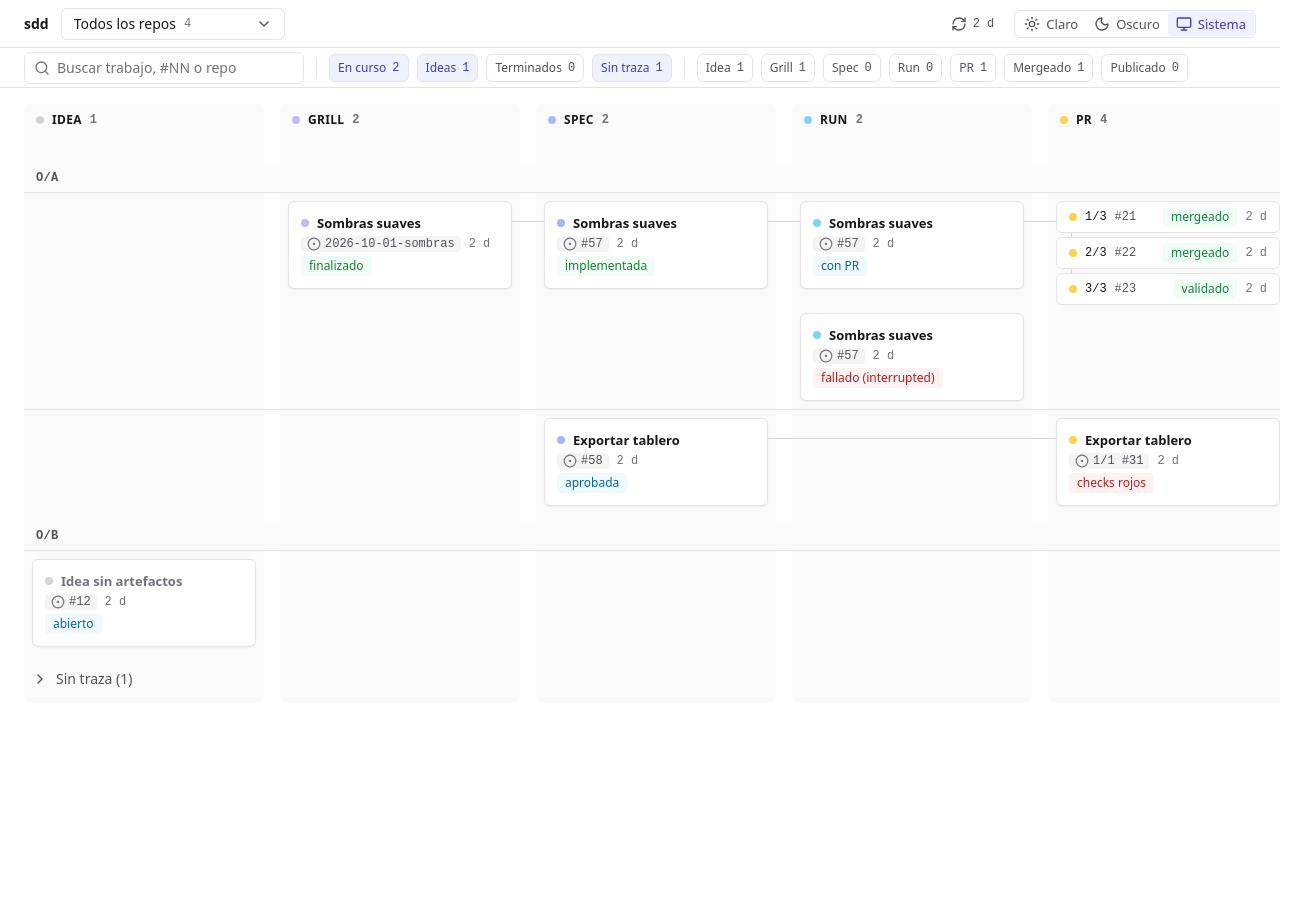
grupos por repo y grupo sin traza en el board › con la categoría Sin traza los sin traza van al final en «Sin traza (N)», cerrado, y al abrirlo aparecen por repo
Expected: the element "Grill viejo" is not shown
Click the button "Sin traza (1)".
click(82, 679)  # box [24,663,140,695]
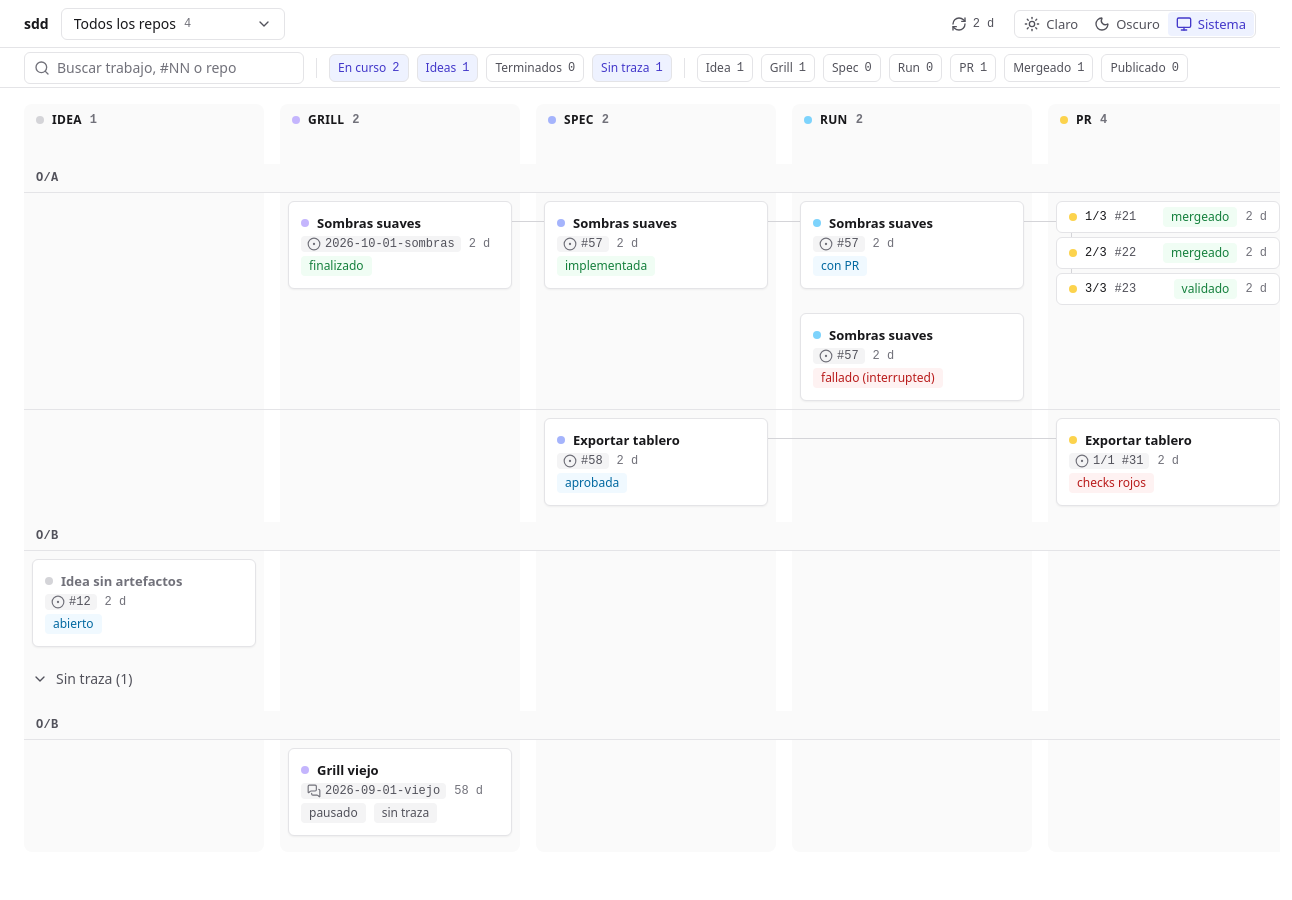
Result: the button "Sin traza (1)" is expanded at [24,663,140,695]
Result: the headings read "o/a", "o/b", "o/b", in this order at [36,170,58,186]; [36,528,58,544]; [36,717,58,733]
